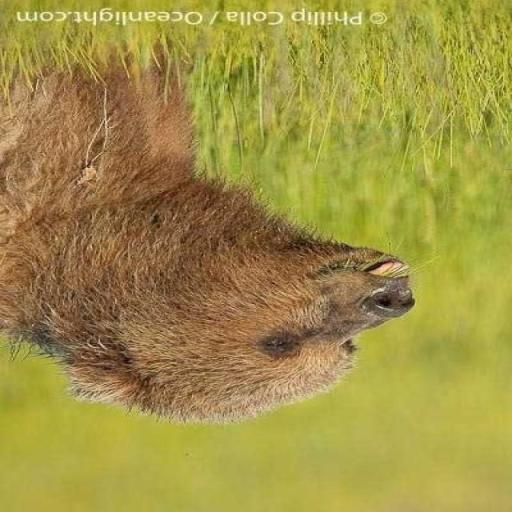Rhino: (0, 52, 430, 425)
